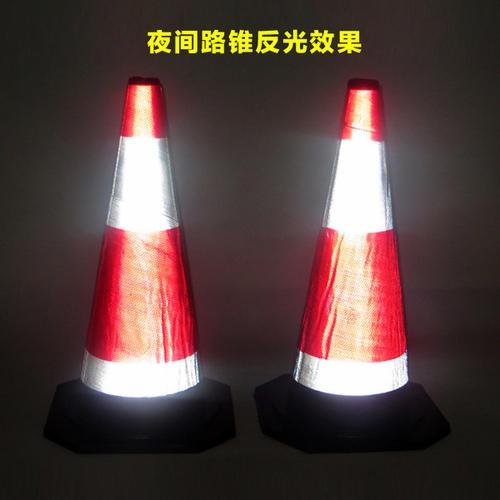cone_barrel: (269, 80, 433, 438), (60, 87, 219, 443)
